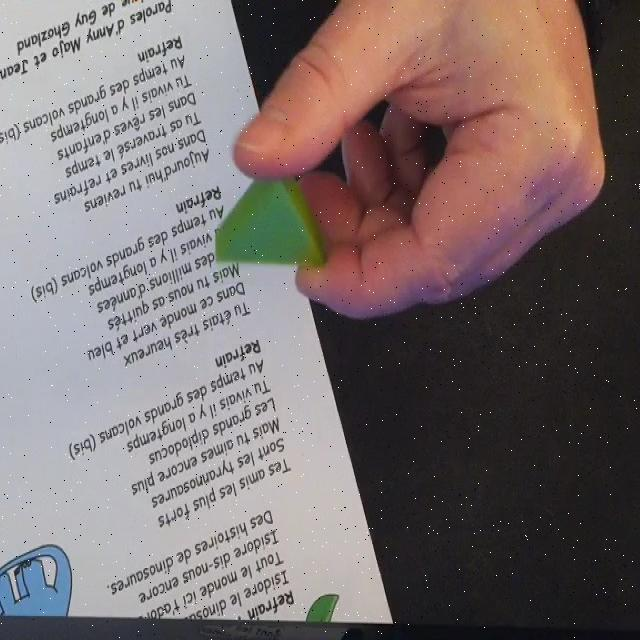triangle: (214, 161, 326, 273)
